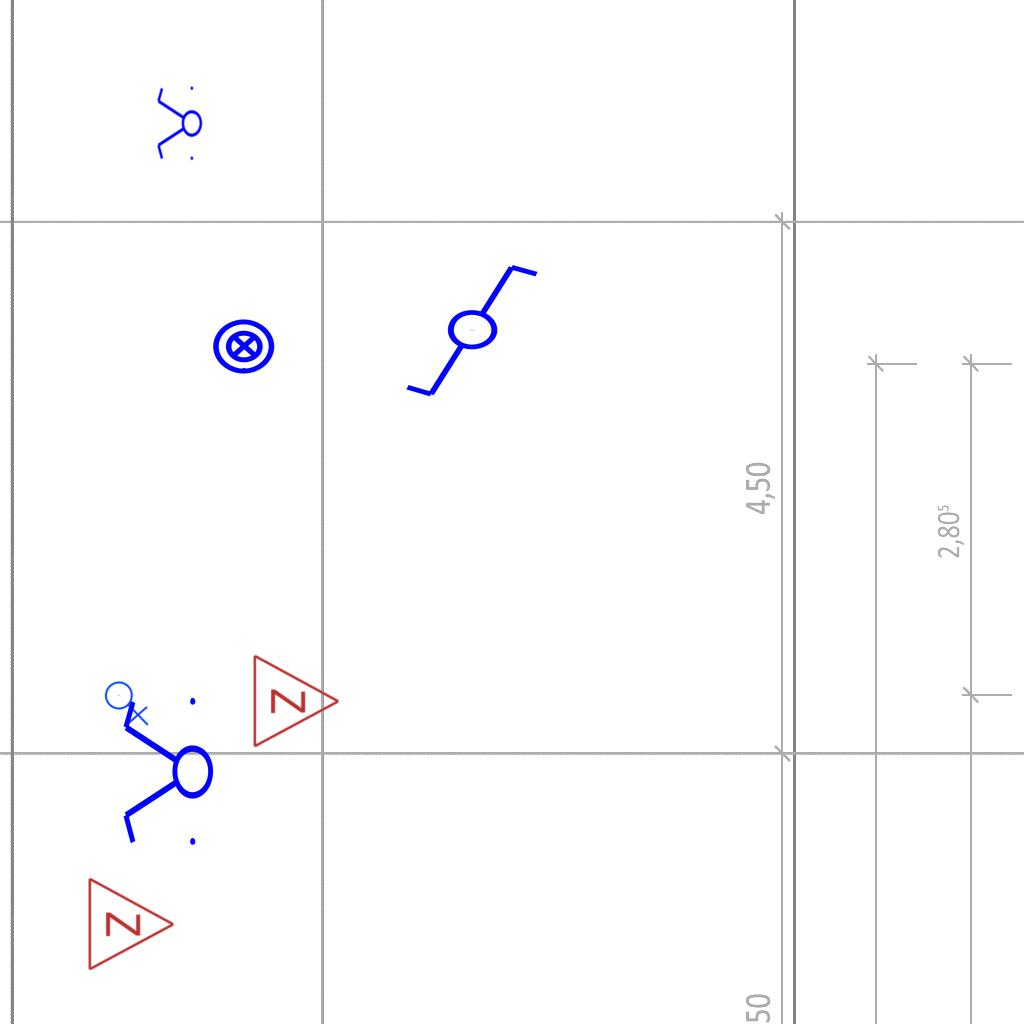Elektroanschluss_allgemein_230V_Geraeteanschlussdose_230V: (104, 677, 151, 726)
Serienschalter: (119, 689, 215, 857), (155, 82, 203, 166)
Taster_beleuchtet: (211, 313, 277, 379)
Wechselschalter: (402, 260, 559, 404)
Zimmersignalleuchte: (246, 651, 346, 749), (81, 874, 181, 972)
